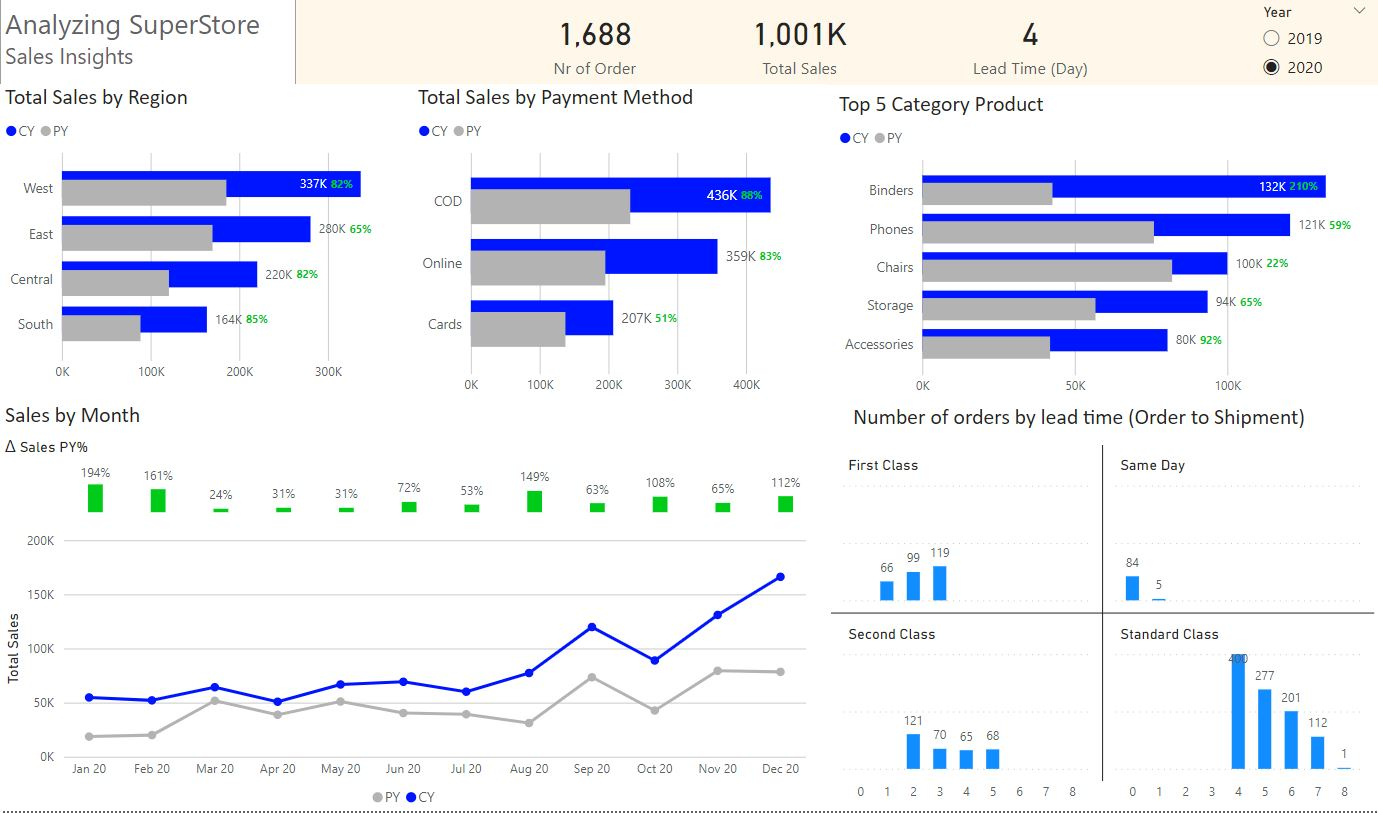

The page's visual inventory and layout, read from the dashboard file:
{"tool":"powerbi","page":{"name":"Page 1","canvas":[1359,800],"ordinal":0},"visuals":[{"type":"shape","box":[291.6,0,1068,84.7],"z":500},{"type":"textbox","box":[0,0,291.6,84.7],"z":1000},{"type":"lineChart","title":"Total Sales by Month","fields":{"Category":["Calendar.Month Year"],"Y":["Superstore sales Dataset.Total Sales PY","Superstore sales Dataset.Total Sales"]},"box":[0,519.5,798.7,286.7],"z":2000},{"type":"card","fields":{"Values":["Superstore sales Dataset.Total Sales"]},"box":[686.5,0,202.1,84.8],"z":3000},{"type":"clusteredColumnChart","title":"Δ Sales PY%","fields":{"Category":["Calendar.Month Year"],"Y":["Superstore sales Dataset.Diff Total Sales PY"]},"box":[0,433,811.9,87.1],"z":4000},{"type":"clusteredBarChart","title":"Total Sales by Region","fields":{"Category":["Superstore sales Dataset.Region"],"Y":["Superstore sales Dataset.Total Sales","Superstore sales Dataset.Total Sales PY"]},"box":[0,84.2,406.5,302],"z":5000},{"type":"slicer","fields":{"Values":["Calendar.Year"]},"box":[1231.5,0,127.1,90.6],"z":6000},{"type":"textbox","box":[0,392.1,291.6,40.4],"z":7000},{"type":"clusteredBarChart","title":"Total Sales by Payment Method","fields":{"Y":["Superstore sales Dataset.Total Sales","Superstore sales Dataset.Total Sales PY"],"Category":["Superstore sales Dataset.Payment Mode"]},"box":[406.5,84.2,406.5,315.1],"z":8000},{"type":"clusteredBarChart","title":"Top 5 Category Product","fields":{"Y":["Superstore sales Dataset.Total Sales","Superstore sales Dataset.Total Sales PY"],"Category":["Superstore sales Dataset.Sub-Category"]},"box":[822,91.1,537,309.3],"z":9000},{"type":"card","fields":{"Values":["Superstore sales Dataset.Avg Lead Time's"]},"box":[877,0,276.4,84.8],"z":10000},{"type":"card","fields":{"Values":["Superstore sales Dataset.Nr of Order"]},"box":[484.4,0,202.1,84.8],"z":11000},{"type":"textbox","box":[835.5,394.5,514.5,52.7],"z":12000},{"type":"clusteredColumnChart","fields":{"Y":["Superstore sales Dataset.Nr of Order"],"Category":["Table Lead Time.Lead Time (Day)"],"Rows":["Superstore sales Dataset.Ship Mode"]},"box":[813.9,434.1,545.1,366.3],"z":16001}]}

Visuals, with their boxes in screenshot pixels (x1, y1, x2, y2), scaled from the page's 1359x800 canvas onto the 1378x813 screenshot:
shape: crop(296, 0, 1377, 86)
textbox: crop(0, 0, 296, 86)
"Total Sales by Month" lineChart: crop(0, 528, 810, 812)
card - Superstore sales Dataset.Total Sales: crop(696, 0, 901, 86)
"Δ Sales PY%" clusteredColumnChart: crop(0, 440, 823, 529)
"Total Sales by Region" clusteredBarChart: crop(0, 86, 412, 392)
slicer - Calendar.Year: crop(1249, 0, 1377, 92)
textbox: crop(0, 398, 296, 440)
"Total Sales by Payment Method" clusteredBarChart: crop(412, 86, 824, 406)
"Top 5 Category Product" clusteredBarChart: crop(833, 93, 1377, 407)
card - Superstore sales Dataset.Avg Lead Time's: crop(889, 0, 1170, 86)
card - Superstore sales Dataset.Nr of Order: crop(491, 0, 696, 86)
textbox: crop(847, 401, 1369, 454)
clusteredColumnChart - Superstore sales Dataset.Nr of Order x Table Lead Time.Lead Time (Day): crop(825, 441, 1377, 812)
